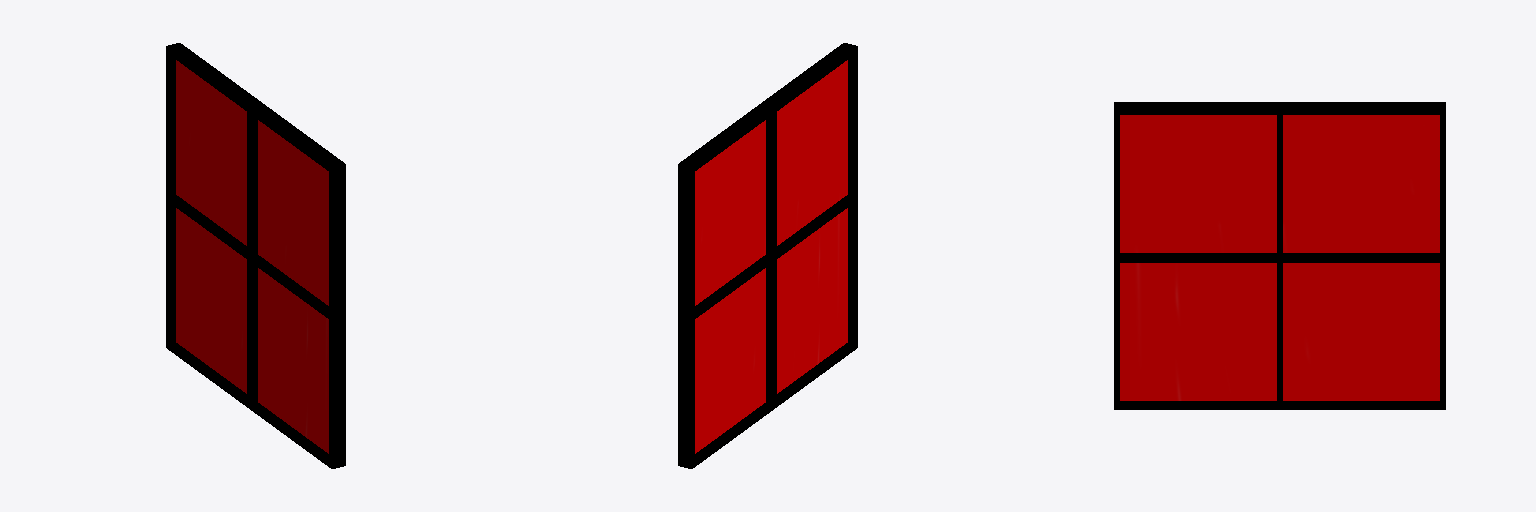
The picture shows the model from 3 angles: view 1: azimuth 30°, elevation 25°; view 2: azimuth 150°, elevation 25°; view 3: azimuth 270°, elevation 25°; orthographic projection.
Parts seen in each view (by area): view 1: Plane, Cube.001, Cube.002, Cube, Cube.005, Cube.003, Cube.004; view 2: Plane, Cube.005, Cube.002, Cube, Cube.001, Cube.003, Cube.004; view 3: Plane, Cube.002, Cube.003, Cube.004, Cube.001, Cube.005, Cube.
Boxes of the visible parts, x1=… form: Plane: x1=176, y1=60, x2=328, y2=453; Cube.001: x1=329, y1=162, x2=345, y2=468; Cube.002: x1=169, y1=45, x2=342, y2=170; Cube: x1=247, y1=102, x2=263, y2=408; Cube.005: x1=166, y1=43, x2=182, y2=349; Cube.003: x1=169, y1=195, x2=328, y2=318; Cube.004: x1=169, y1=342, x2=328, y2=466; Plane: x1=695, y1=60, x2=847, y2=453; Cube.005: x1=678, y1=162, x2=694, y2=468; Cube.002: x1=681, y1=45, x2=854, y2=170; Cube: x1=761, y1=103, x2=776, y2=407; Cube.001: x1=841, y1=43, x2=857, y2=349; Cube.003: x1=695, y1=195, x2=854, y2=318; Cube.004: x1=695, y1=342, x2=854, y2=466; Plane: x1=1120, y1=115, x2=1439, y2=400; Cube.002: x1=1120, y1=102, x2=1439, y2=114; Cube.003: x1=1120, y1=253, x2=1439, y2=262; Cube.004: x1=1120, y1=401, x2=1439, y2=409; Cube.001: x1=1114, y1=102, x2=1119, y2=409; Cube.005: x1=1440, y1=102, x2=1445, y2=409; Cube: x1=1277, y1=102, x2=1282, y2=409.
Bounding box in the file's own units: 0.1 × 2 × 2.
7 materials, 1 textured.